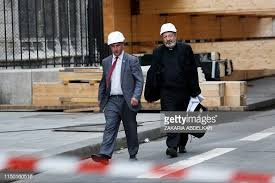Person_wearing_helmet: (104, 26, 129, 48)
